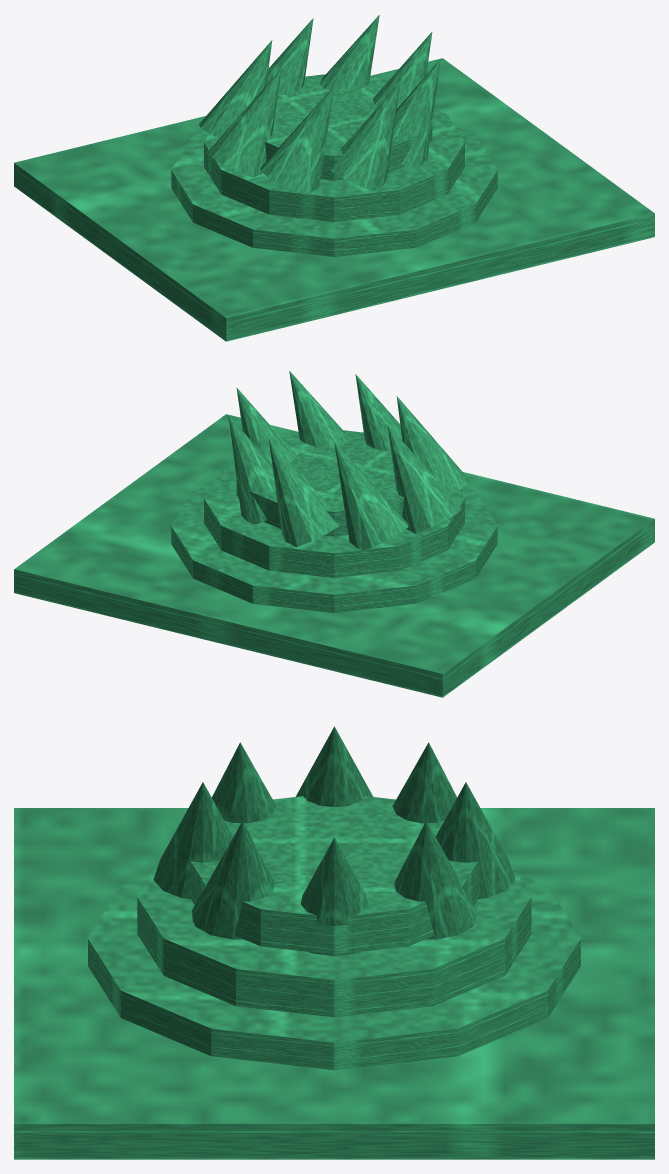
Rendered from lotus_terrace_02.glb.
3 views of the same model, one above another, from view 1: azimuth 30°, elevation 25°; view 2: azimuth 150°, elevation 25°; view 3: azimuth 270°, elevation 25° (orthographic). The views are drawn at different scales.
Parts seen in each view (by area): view 1: Foundation, LotusTier, LotusTier.001, LotusTier.002, LotusPetal.005, LotusPetal.006, LotusPetal.004, LotusPetal.007, LotusPetal.003, LotusPetal.001, LotusPetal.002, LotusPetal; view 2: Foundation, LotusTier, LotusTier.001, LotusTier.002, LotusPetal.003, LotusPetal.002, LotusPetal.004, LotusPetal.001, LotusPetal.005, LotusPetal.007, LotusPetal.006, LotusPetal; view 3: Foundation, LotusTier, LotusTier.001, LotusTier.002, LotusPetal.001, LotusPetal.007, LotusPetal.002, LotusPetal.006, LotusPetal, LotusPetal.004, LotusPetal.003, LotusPetal.005.
Part boxes in pixels (x1,y1,x2,y2): Foundation: [14, 58, 654, 341]; LotusTier: [171, 127, 497, 256]; LotusTier.001: [204, 109, 464, 221]; LotusTier.002: [265, 74, 432, 180]; LotusPetal.005: [260, 86, 334, 194]; LotusPetal.006: [329, 82, 400, 190]; LotusPetal.004: [207, 68, 281, 177]; LotusPetal.007: [393, 59, 440, 168]; LotusPetal.003: [199, 40, 272, 138]; LotusPetal.001: [319, 15, 379, 91]; LotusPetal.002: [266, 18, 313, 95]; LotusPetal: [372, 32, 432, 108]; Foundation: [14, 414, 654, 697]; LotusTier: [171, 483, 497, 612]; LotusTier.001: [204, 465, 464, 577]; LotusTier.002: [236, 430, 403, 536]; LotusPetal.003: [334, 442, 408, 550]; LotusPetal.002: [268, 438, 339, 546]; LotusPetal.004: [387, 424, 461, 533]; LotusPetal.001: [228, 415, 275, 524]; LotusPetal.005: [396, 396, 469, 494]; LotusPetal.007: [289, 371, 349, 447]; LotusPetal.006: [355, 374, 402, 451]; LotusPetal: [236, 388, 296, 464]; Foundation: [14, 808, 654, 1159]; LotusTier: [88, 873, 580, 1070]; LotusTier.001: [137, 863, 531, 1017]; LotusTier.002: [188, 796, 480, 954]; LotusPetal.001: [394, 821, 476, 939]; LotusPetal.007: [192, 821, 274, 939]; LotusPetal.002: [435, 782, 515, 898]; LotusPetal.006: [153, 782, 233, 898]; LotusPetal: [300, 837, 368, 955]; LotusPetal.004: [295, 726, 373, 807]; LotusPetal.003: [392, 742, 456, 823]; LotusPetal.005: [212, 742, 276, 823].
Bounding box in the file's own units: 4.55 × 1.59 × 3.9.
Materials: 1 (1 with a texture image).
